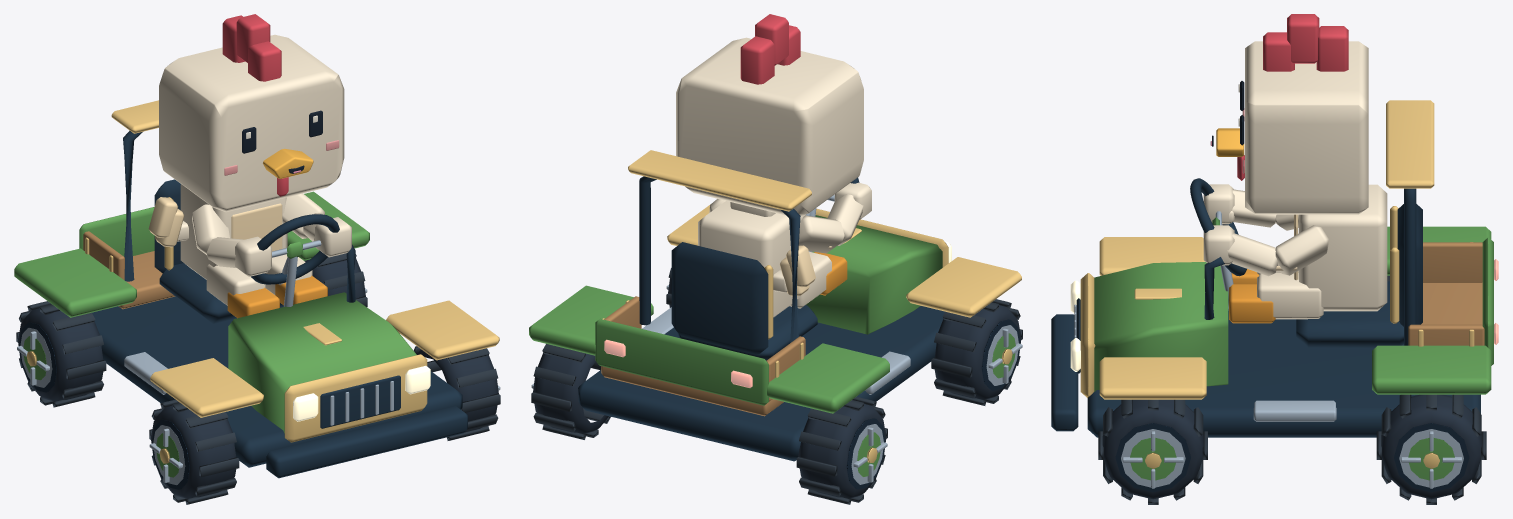
The model's file is kart_ayam_low.glb.
The picture shows the model from 3 angles, left to right: view 1: azimuth 30°, elevation 25°; view 2: azimuth 150°, elevation 25°; view 3: azimuth 270°, elevation 25°; orthographic projection. The views are drawn at different scales.
Visible parts, largest first — view 1: chassis, driver_pose, wheel_rl_spin, wheel_fl_spin, wheel_fr_spin, ear_l, steering, wheel_rr_spin, tail, eyes; view 2: chassis, driver_pose, wheel_rl_spin, wheel_fl_spin, wheel_rr_spin, ear_l, tail; view 3: chassis, driver_pose, wheel_rr_spin, wheel_fr_spin, ear_l, steering.
Boxes of the visible parts, <box> form: chassis: <box>14,100,499,478</box>; driver_pose: <box>159,34,351,318</box>; wheel_rl_spin: <box>16,301,106,407</box>; wheel_fl_spin: <box>149,399,239,504</box>; wheel_fr_spin: <box>413,346,500,440</box>; ear_l: <box>222,14,281,81</box>; steering: <box>251,214,339,284</box>; wheel_rr_spin: <box>304,253,367,306</box>; tail: <box>148,197,188,247</box>; eyes: <box>242,110,322,153</box>; chassis: <box>529,150,1021,461</box>; driver_pose: <box>676,37,871,317</box>; wheel_rl_spin: <box>796,396,887,504</box>; wheel_fl_spin: <box>931,299,1022,405</box>; wheel_rr_spin: <box>531,344,610,439</box>; ear_l: <box>740,14,800,84</box>; tail: <box>773,245,815,296</box>; chassis: <box>1051,100,1498,437</box>; driver_pose: <box>1203,41,1387,323</box>; wheel_rr_spin: <box>1376,394,1486,504</box>; wheel_fr_spin: <box>1098,399,1207,504</box>; ear_l: <box>1263,14,1348,71</box>; steering: <box>1190,178,1246,276</box>.
Size of what is drawn, in the model's own units: 1.46 by 1.69 by 1.67.
